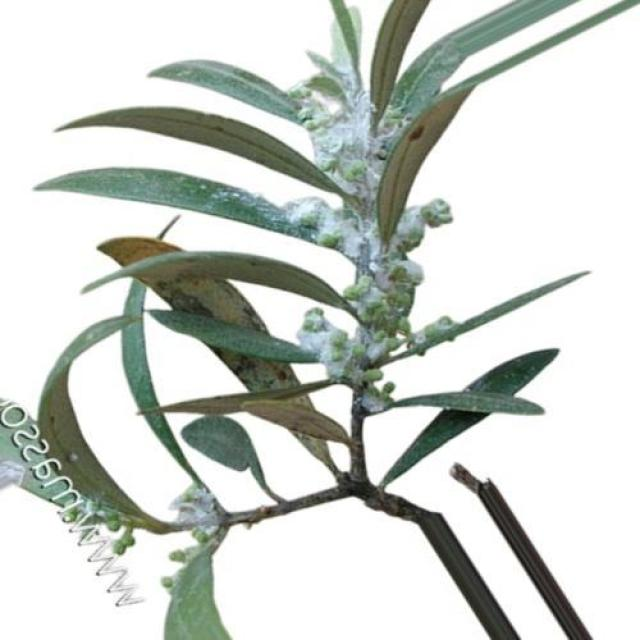Psyllid: (284, 35, 461, 408), (170, 484, 232, 556)
